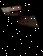dent: (1, 5, 43, 56)
